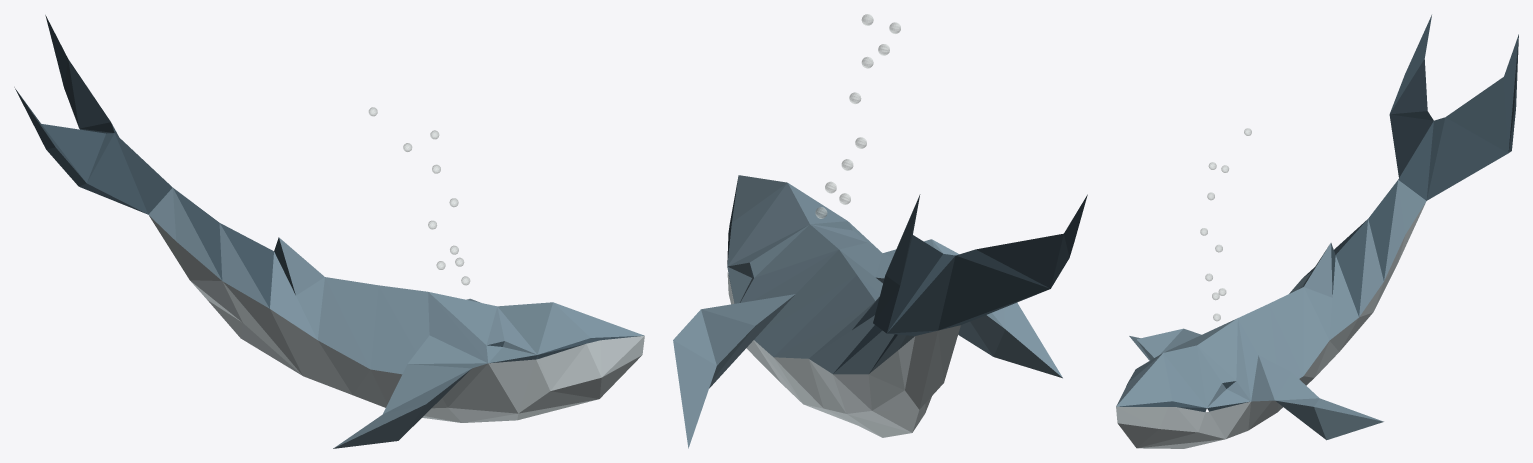
File: WhaleO1.glb
The picture shows the model from 3 angles, left to right: view 1: azimuth 30°, elevation 25°; view 2: azimuth 150°, elevation 25°; view 3: azimuth 270°, elevation 25°; orthographic projection. The views are drawn at different scales.
Parts seen in each view (by area): view 1: group934936559; view 2: group934936559; view 3: group934936559.
Boxes of the visible parts, x1,y1,x2,y2 form: group934936559: (14,15,644,448); group934936559: (673,175,1087,448); group934936559: (1116,15,1518,448).
Size of the model in its own units: 1.12 by 0.8103 by 0.9876.
